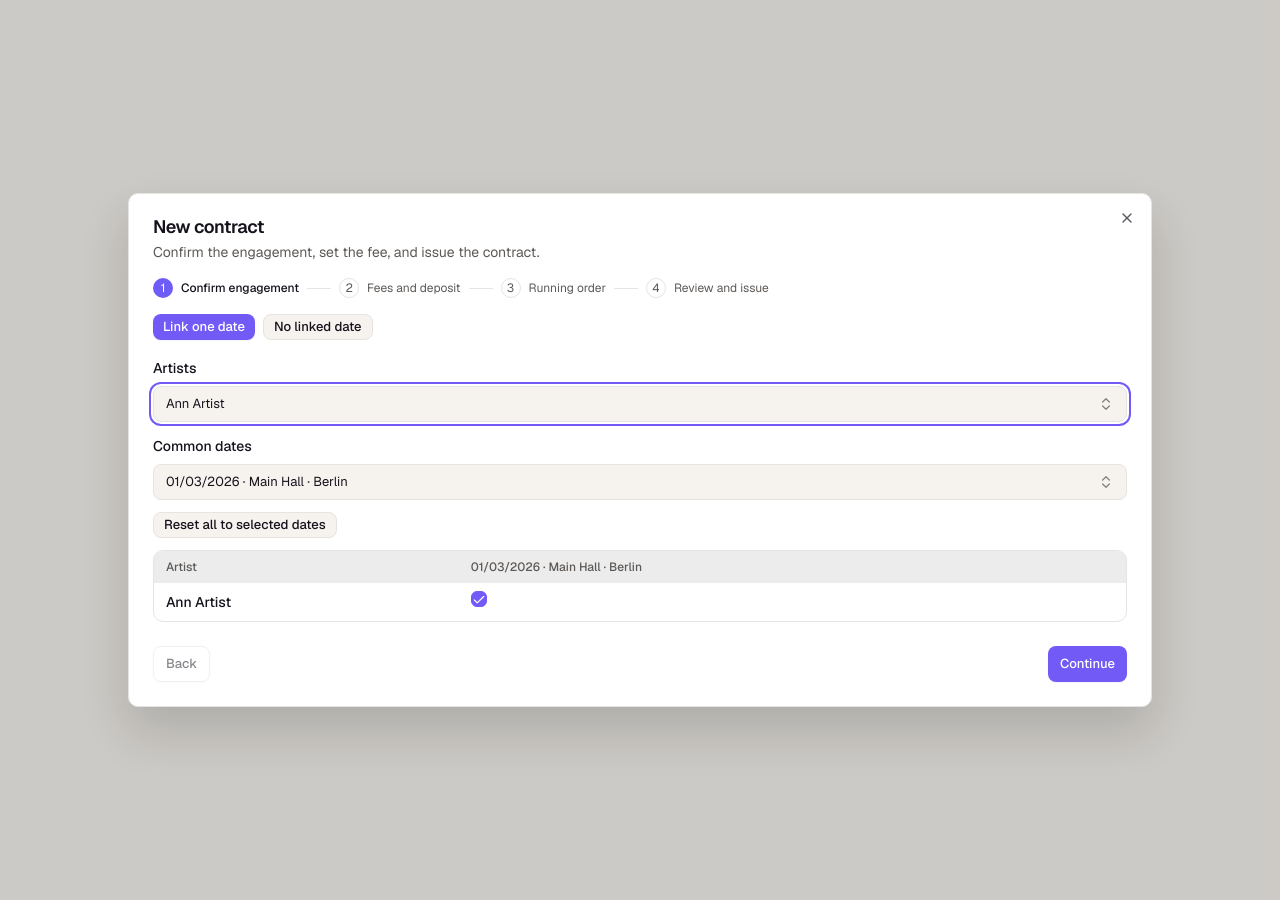
it: NewOrderWizard › omits date_overrides entirely when no running order is edited
The image size is (1280, 900).
Earlier steps of the test are not shown.
Step 1. Click the dropdown named "select date" → {"x": 257, "y": 482}, box [153,464,1127,500]
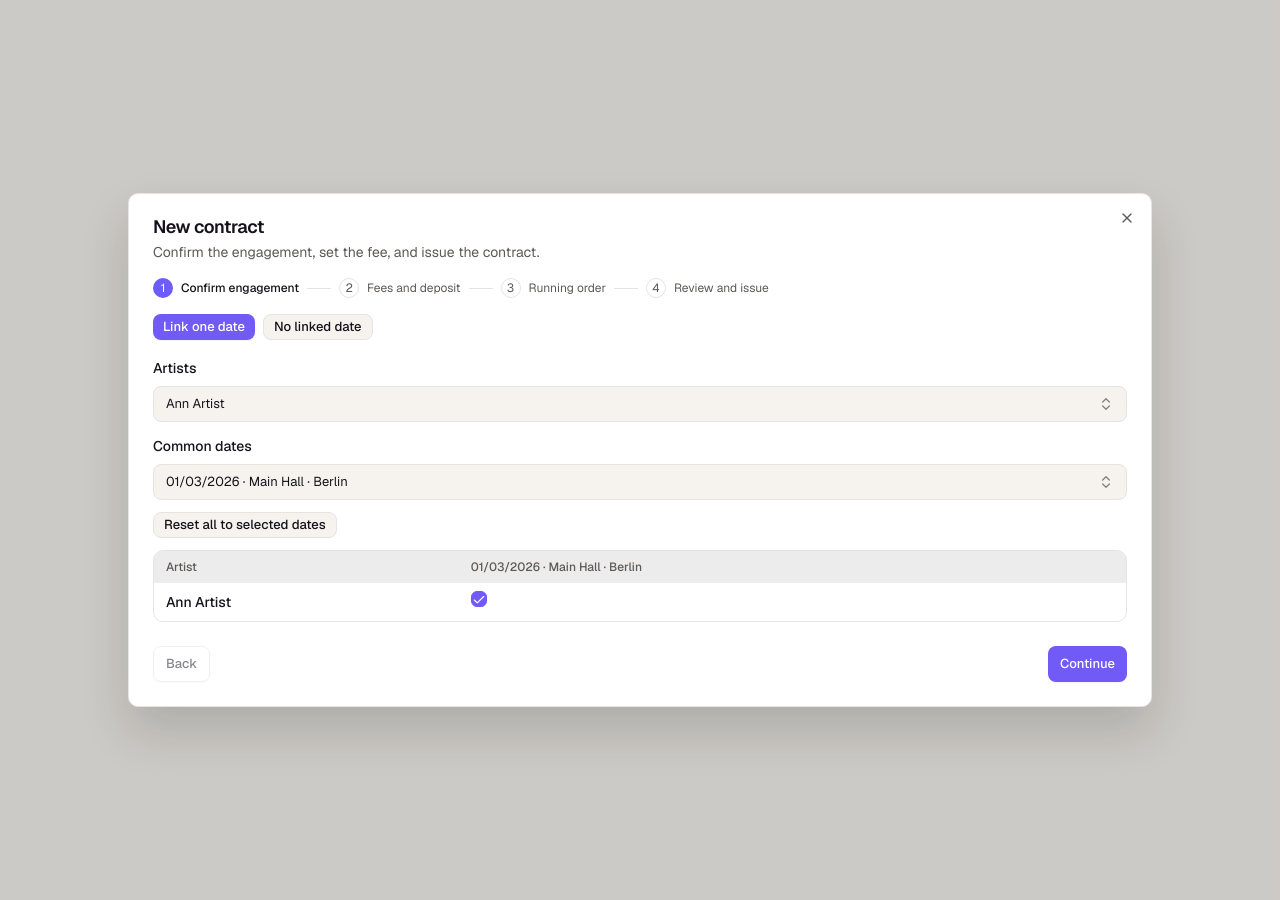
Step 2. Click the button "Reset all to selected dates" → {"x": 245, "y": 525}, box [153,512,337,538]
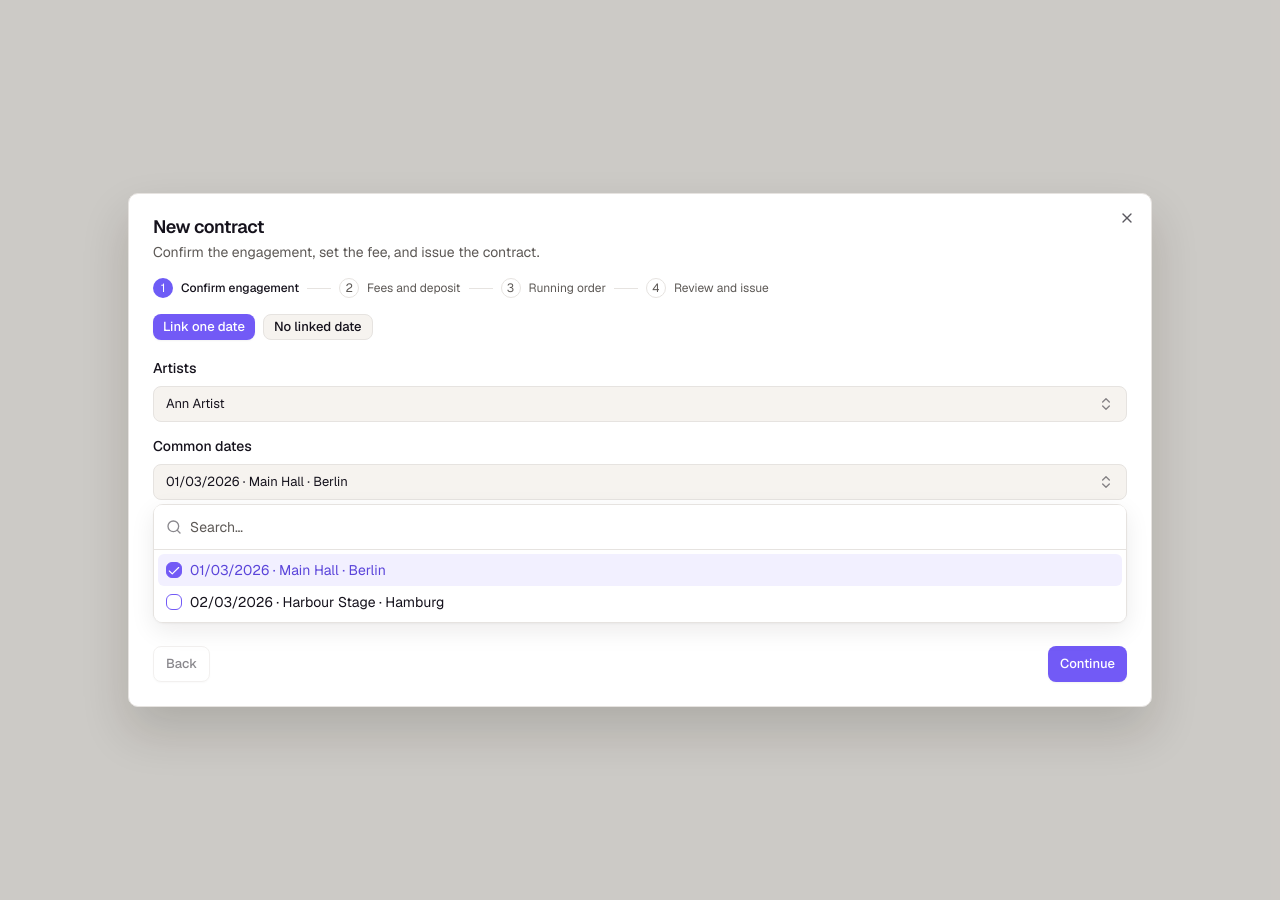
Step 3. Click the button "Continue" → {"x": 1088, "y": 664}, box [1048,646,1127,682]
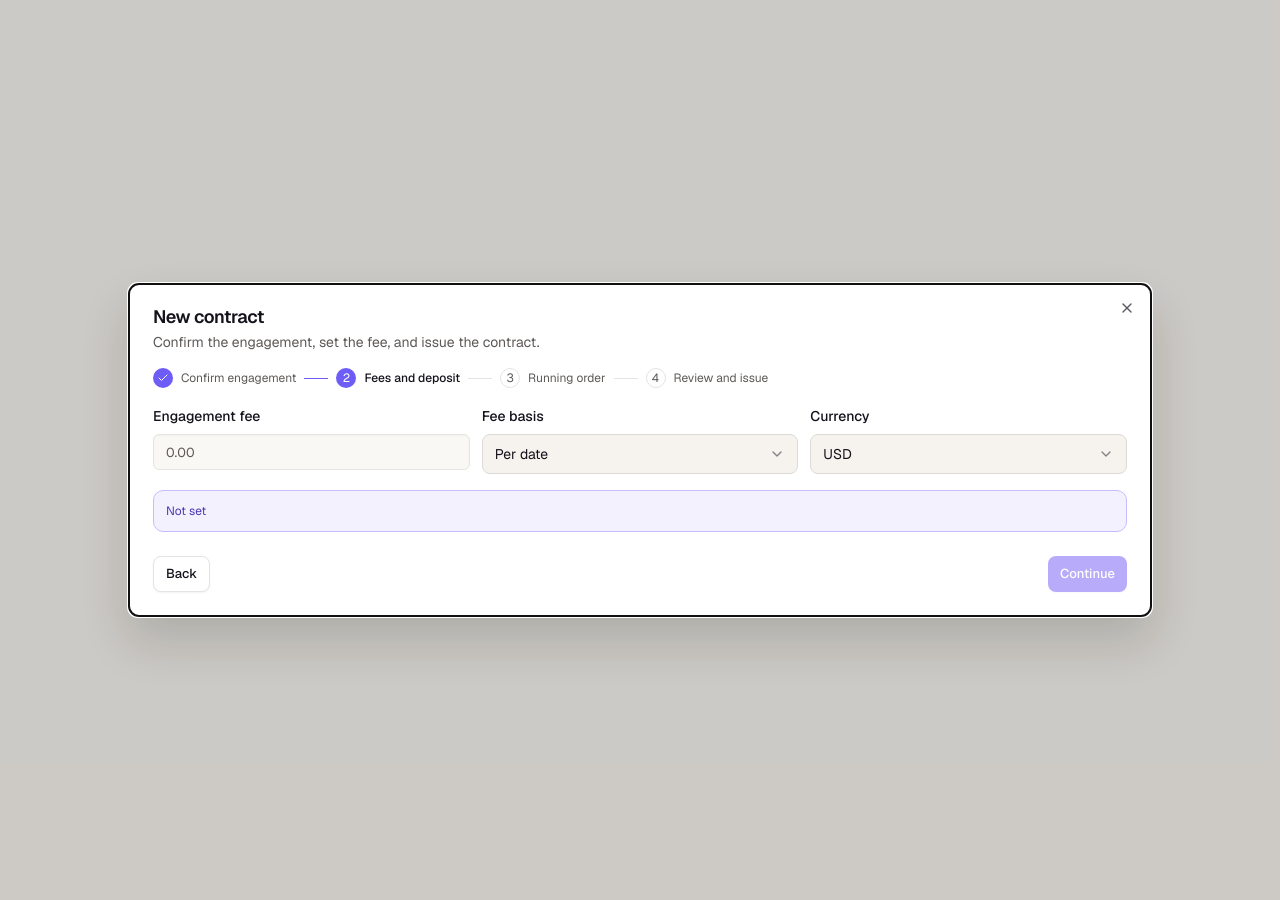
Step 4. Type "1200" into the number field labelled "Engagement fee" → {"x": 311, "y": 452}, box [153,434,470,470]
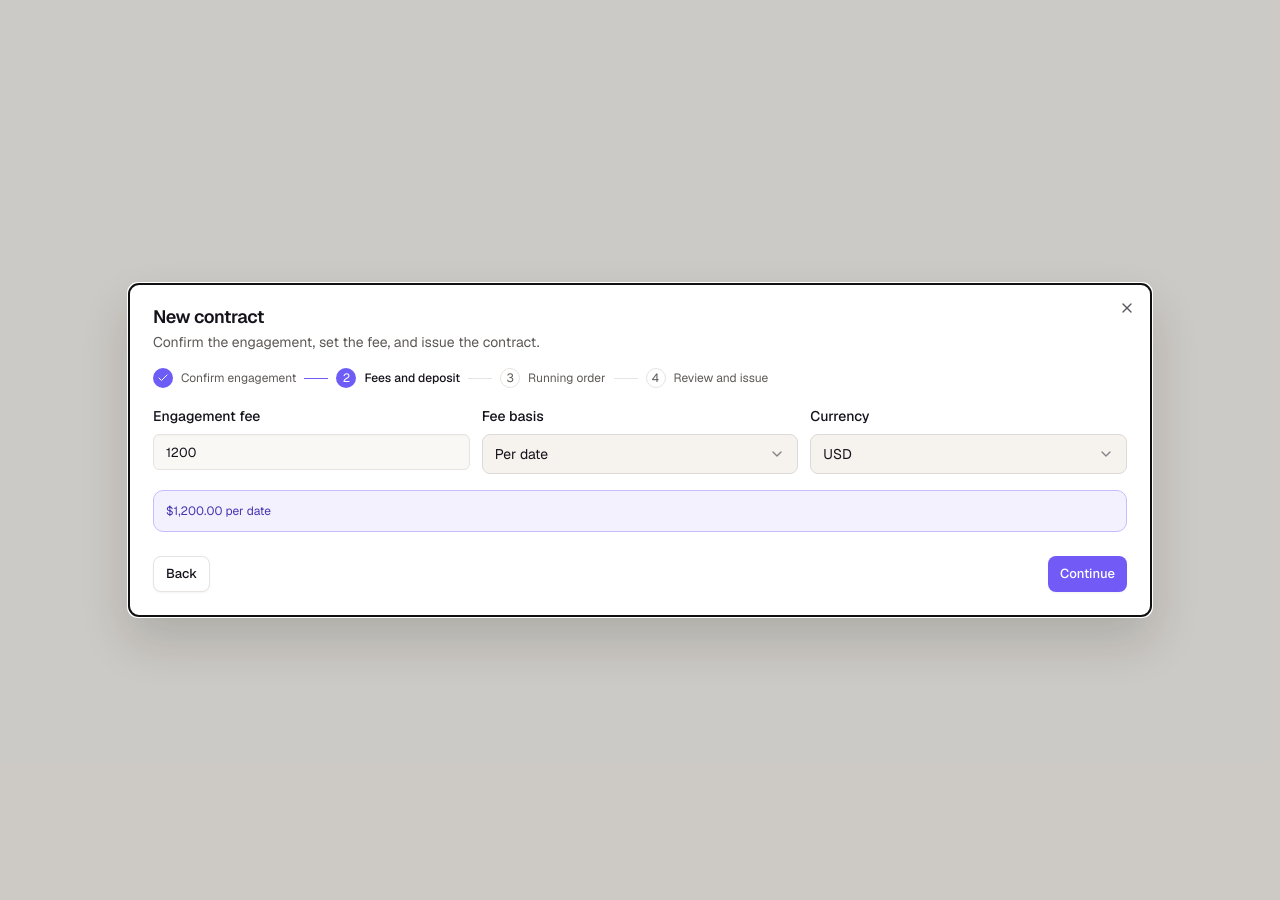
Step 5. Click the button "Continue" → {"x": 1088, "y": 574}, box [1048,556,1127,592]
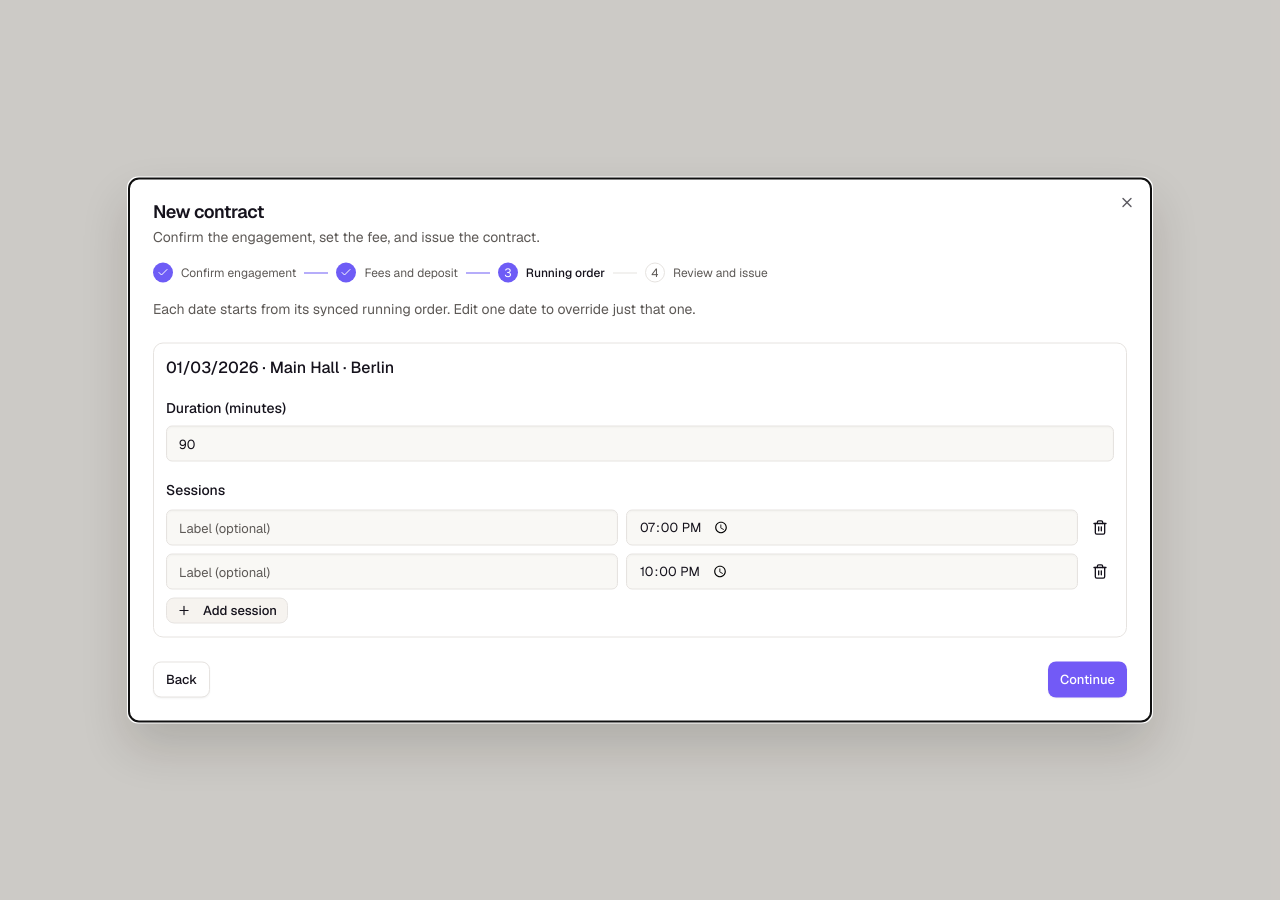
Step 6. Click the button "Continue" → {"x": 1088, "y": 680}, box [1048,662,1127,698]
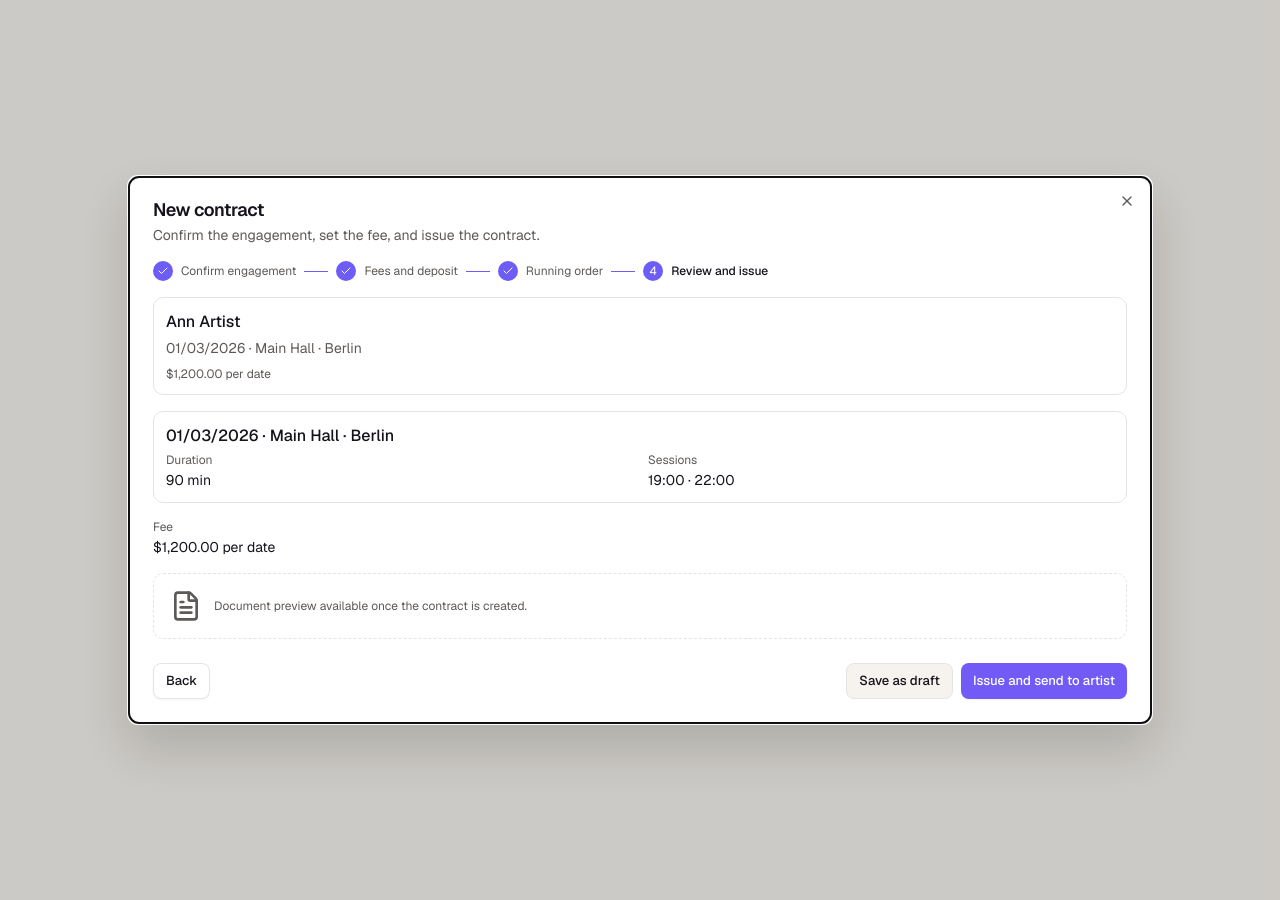
Now the button "Save as draft" is shown, box [846,663,953,699]
